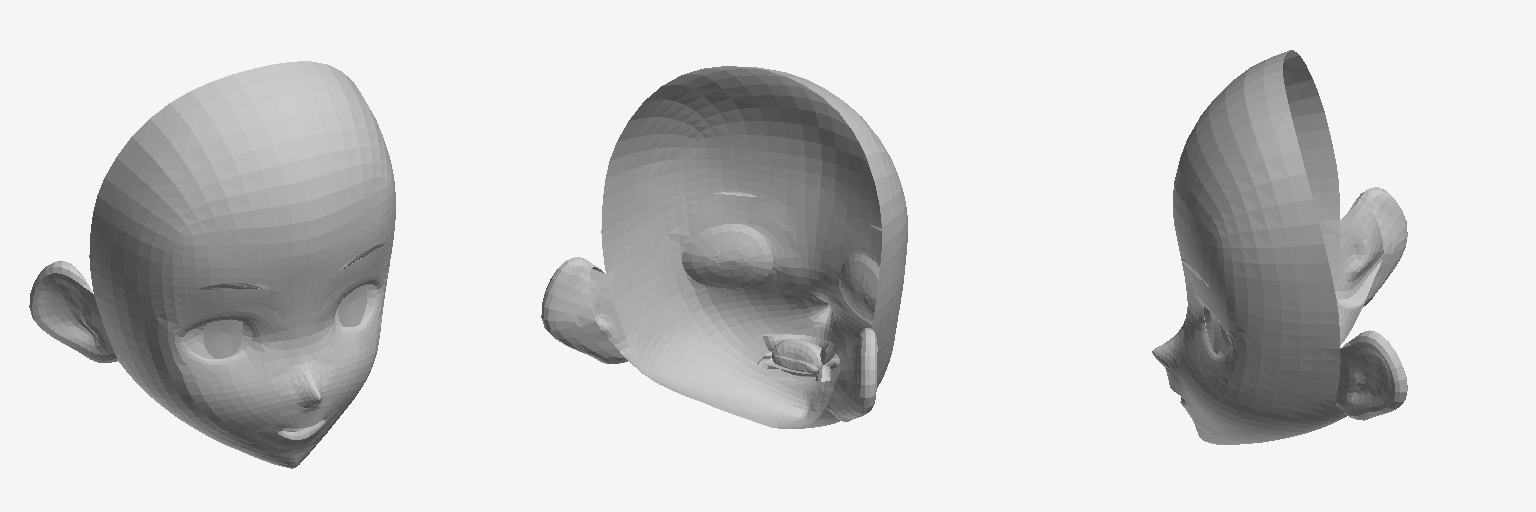
File: mouthLowerDownRight.obj
3 renders of one model, left to right at view 1: azimuth 30°, elevation 25°; view 2: azimuth 150°, elevation 25°; view 3: azimuth 270°, elevation 25°, orthographic.
Parts seen in each view (by area): view 1: Face; view 2: Face; view 3: Face.
Part boxes in pixels (x1,y1,x2,y2): Face: (29, 61, 395, 468); Face: (541, 66, 907, 428); Face: (1152, 50, 1407, 444).
Bounding box in the file's own units: 0.2176 × 0.2333 × 0.1449.